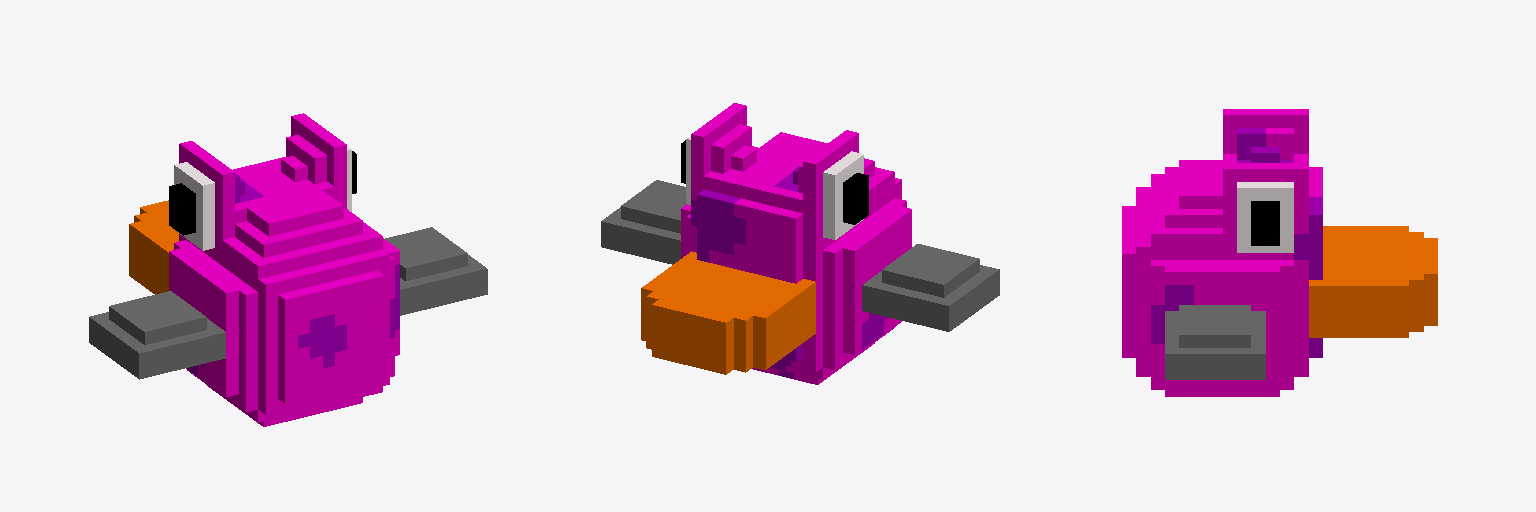
3 views of the same model, side by side, from view 1: azimuth 30°, elevation 25°; view 2: azimuth 150°, elevation 25°; view 3: azimuth 270°, elevation 25° (orthographic).
Parts seen in each view (by area): view 1: object 1; view 2: object 1; view 3: object 1.
Part boxes in pixels (bbox=[...]): object 1: bbox=[89, 113, 487, 426]; object 1: bbox=[601, 103, 999, 384]; object 1: bbox=[1122, 109, 1437, 396].
Size of the model in its own units: 2.8 by 1.8 by 2.2.
Materials: 1 (1 with a texture image).